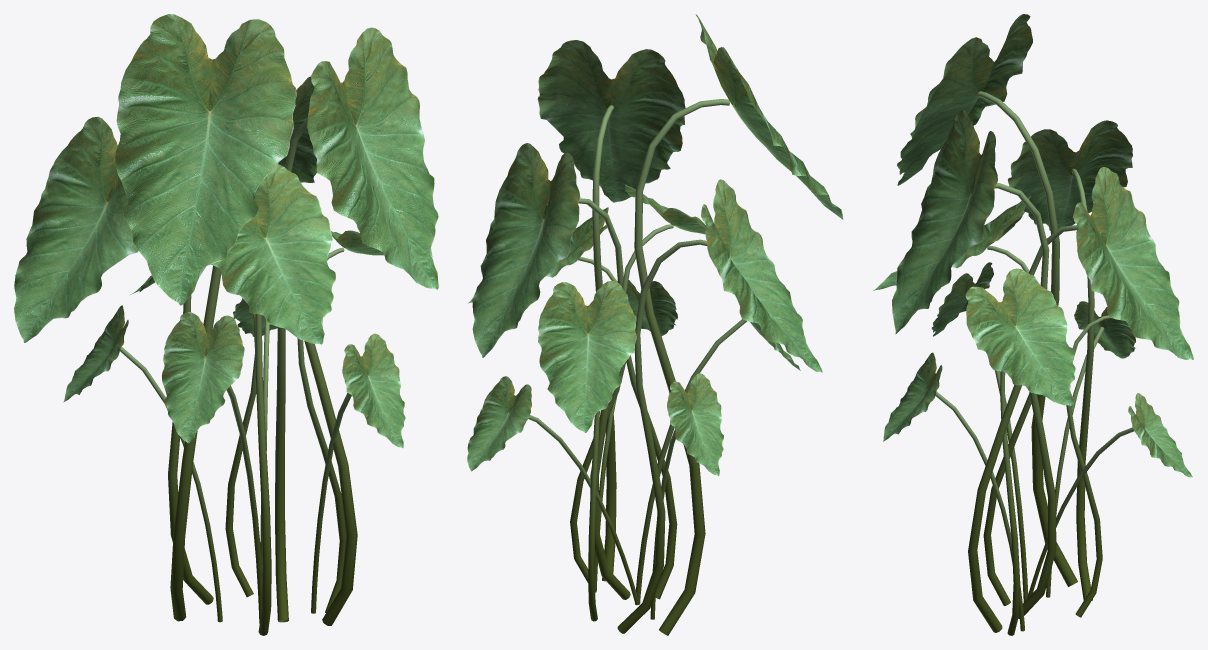
The model's file is ElephantEar3.fbx.
The picture shows the model from 3 angles, left to right: view 1: azimuth 30°, elevation 25°; view 2: azimuth 150°, elevation 25°; view 3: azimuth 270°, elevation 25°; orthographic projection. The views are drawn at different scales.
Parts seen in each view (by area): view 1: ElephantLeaf, Veins; view 2: ElephantLeaf, Veins; view 3: ElephantLeaf, Veins.
Part boxes in pixels (bbox=[...]): ElephantLeaf: bbox=[14, 14, 438, 447]; Veins: bbox=[120, 117, 357, 635]; ElephantLeaf: bbox=[467, 14, 843, 475]; Veins: bbox=[528, 99, 746, 635]; ElephantLeaf: bbox=[873, 14, 1193, 477]; Veins: bbox=[935, 91, 1133, 635].
Size of the model in its own units: 54.97 by 87.46 by 45.72.
